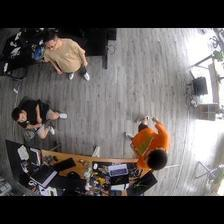normal: (124, 114, 171, 169), (43, 31, 90, 81), (12, 102, 67, 140)
